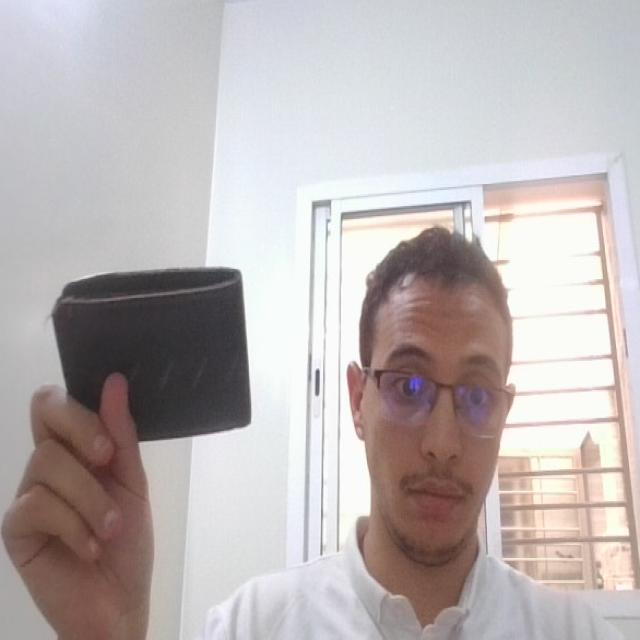wallet: (48, 268, 268, 452)
